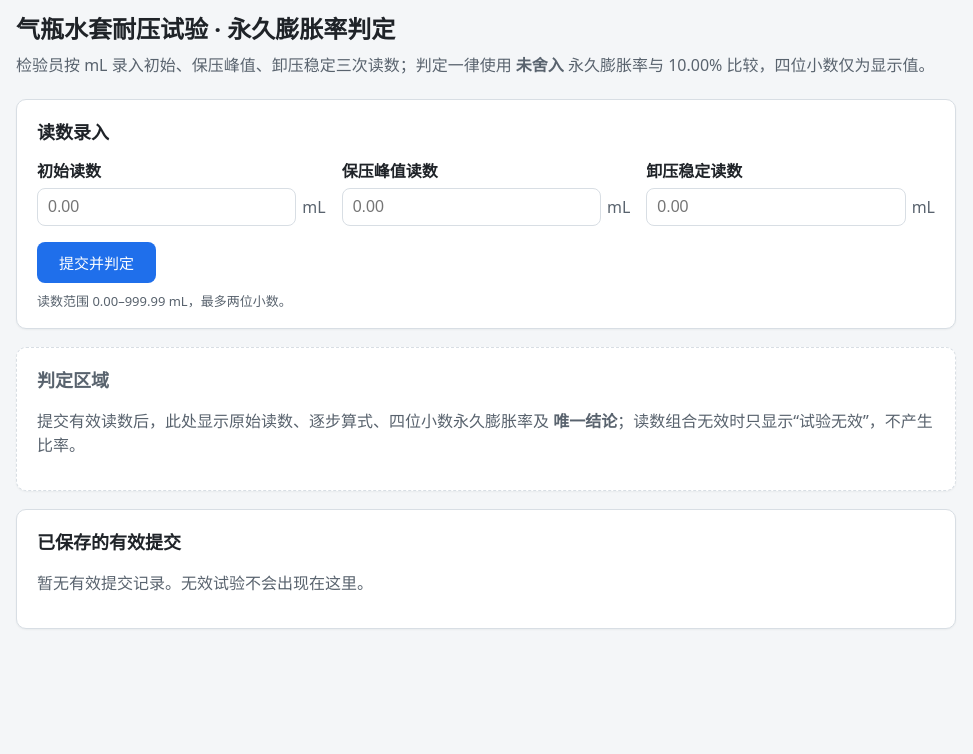
it: App 判定流程（fetch 为接缝，展示与交互全真实） › 放行：展示原读数、逐步算式、四位小数比率与唯一 PASS 结论
In the field with test id "input-initial": (167, 207) [37,188,296,226], type "100.00"
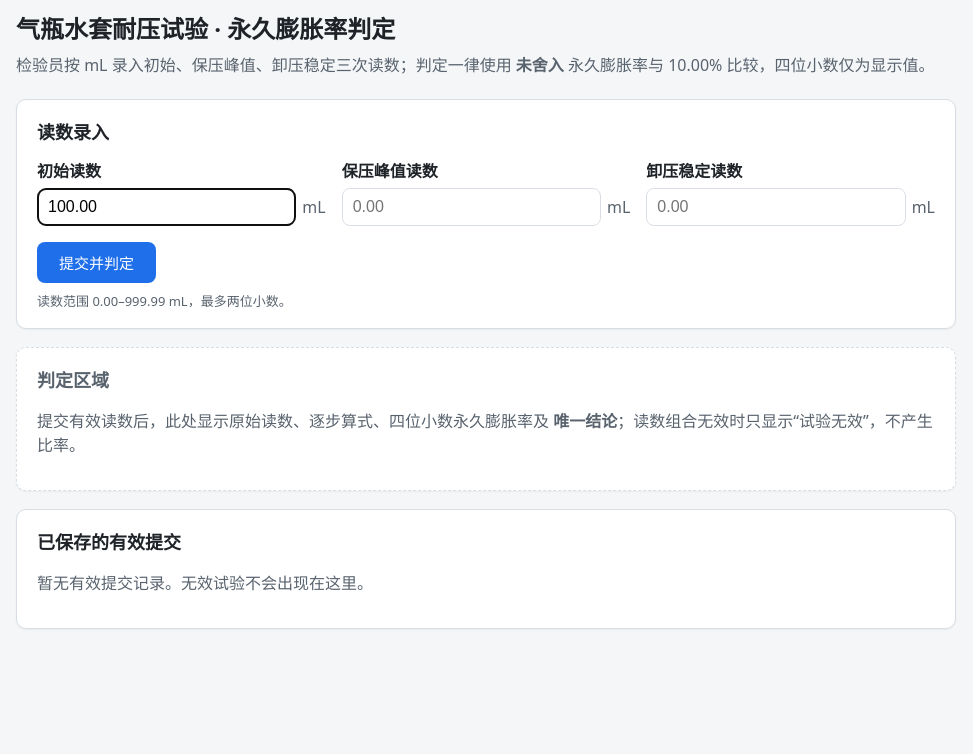
In the field with test id "input-peak": (471, 207) [342,188,601,226], type "110.00"
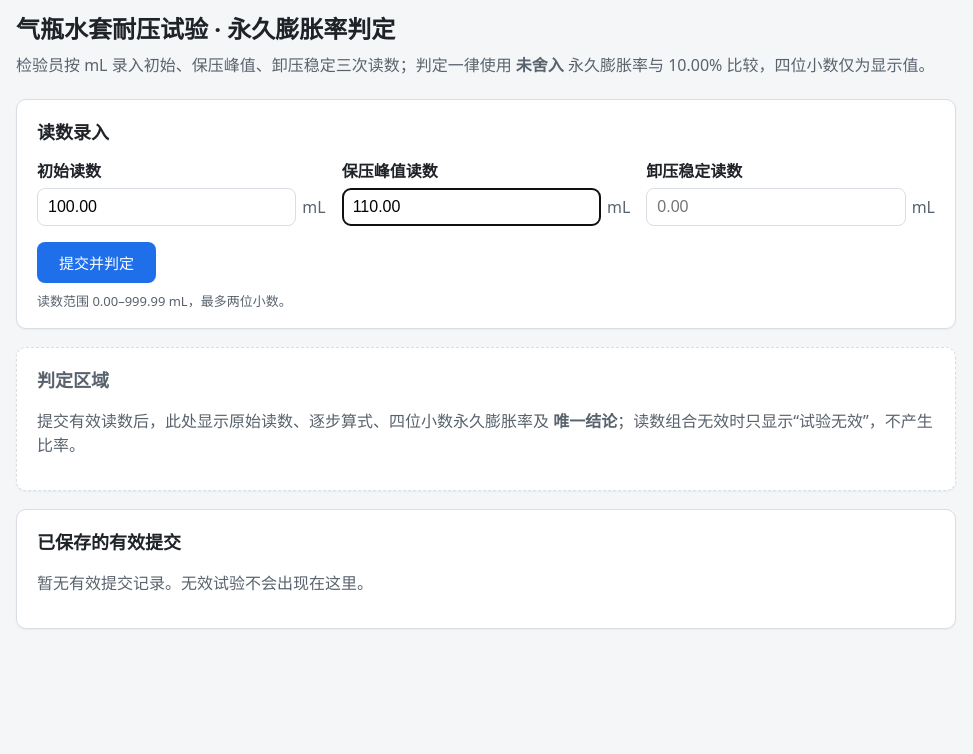
In the field with test id "input-released": (776, 207) [646,188,906,226], type "100.50"
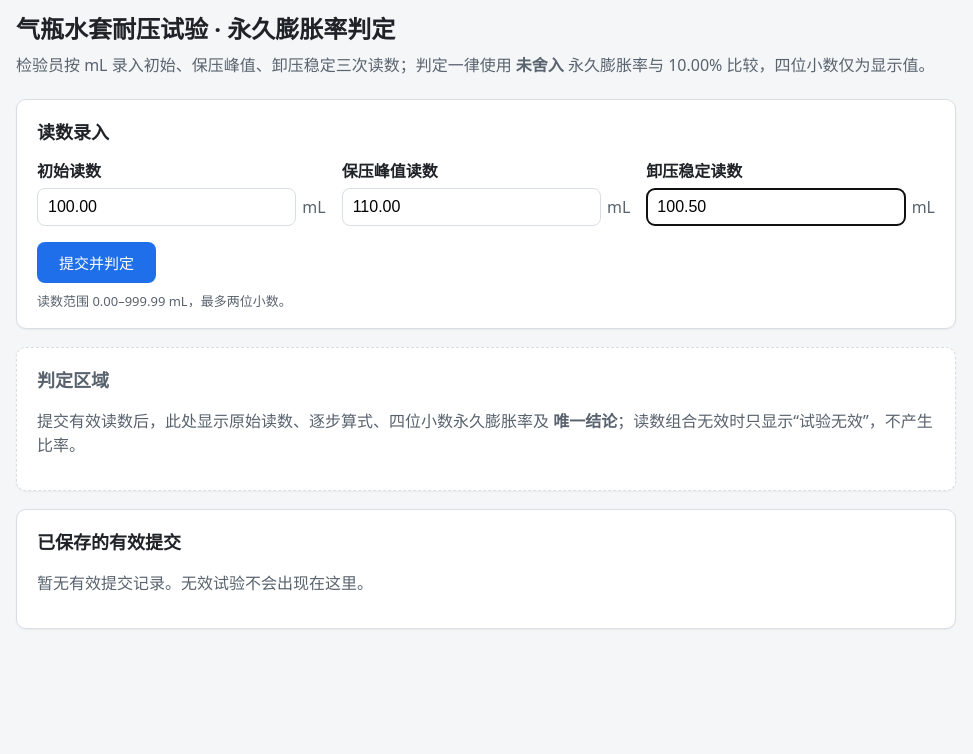
Click the button with test id "submit-button": (96, 262) [37,242,156,283]
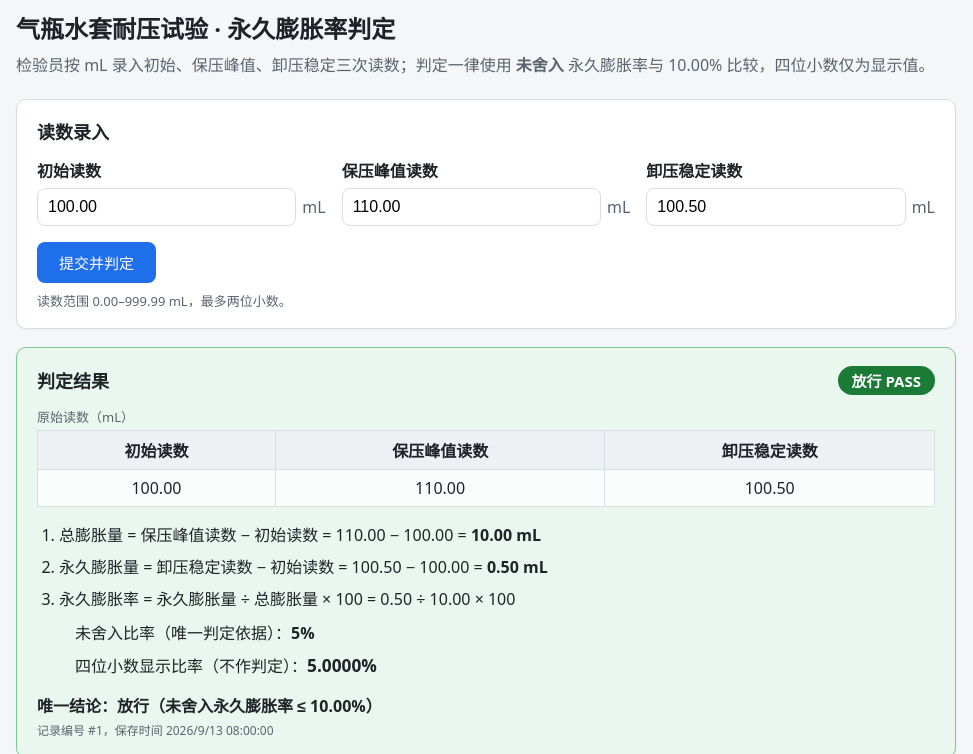
Now the text with test id "conclusion" shows "放行", box [852,371,921,391]
Now the cell with test id "show-initial" reads "100.00", box [131,477,182,499]
Now the cell with test id "show-peak" reads "110.00", box [415,477,465,499]
